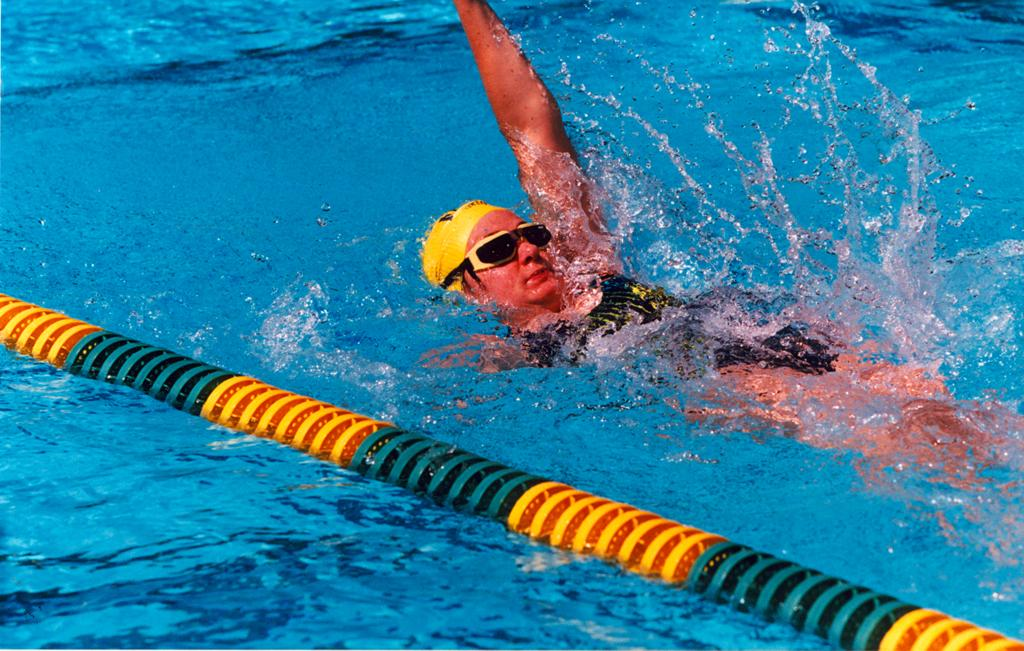face: (446, 206, 558, 294)
